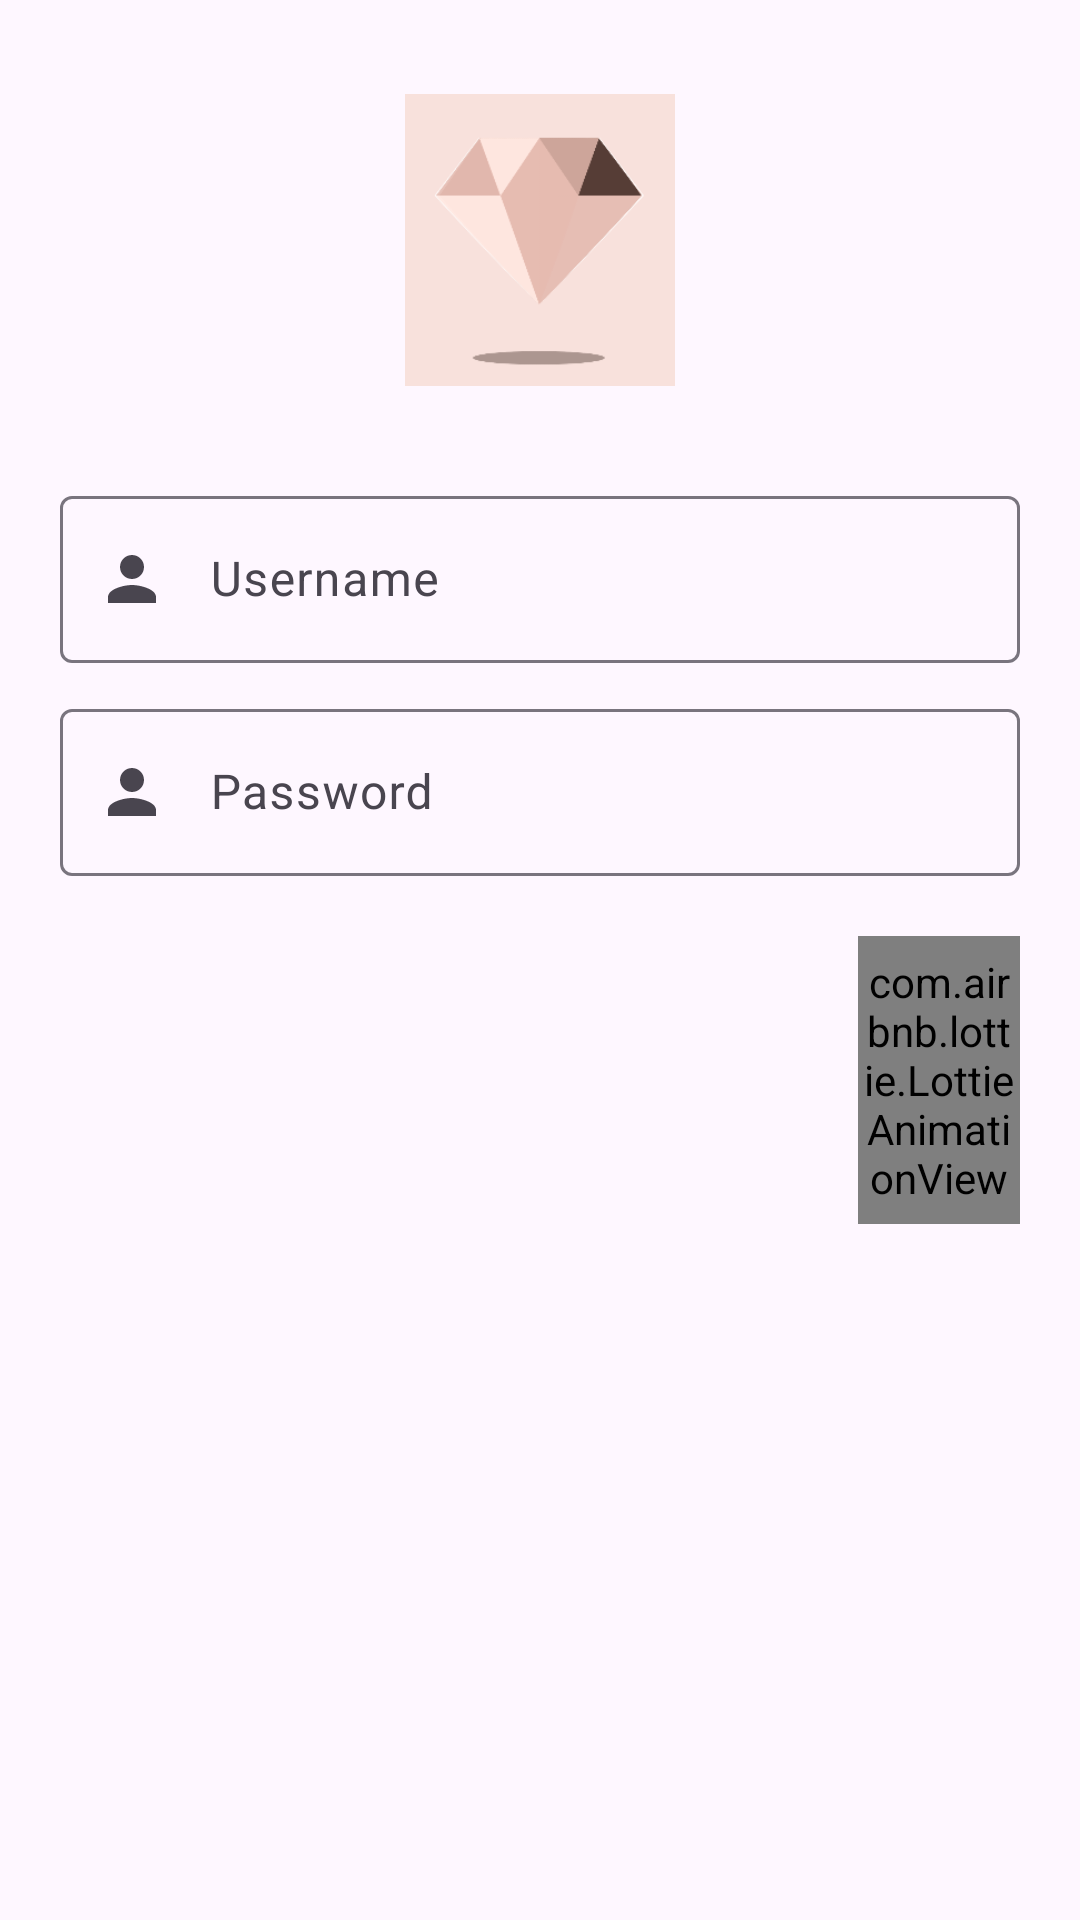

Screen size 1080w x 1920h. Icon name, then its box in pixels as {"left": x1, "top": y1, "right": x2, "bottom": y2}:
diamond: {"left": 405, "top": 94, "right": 675, "bottom": 386}
